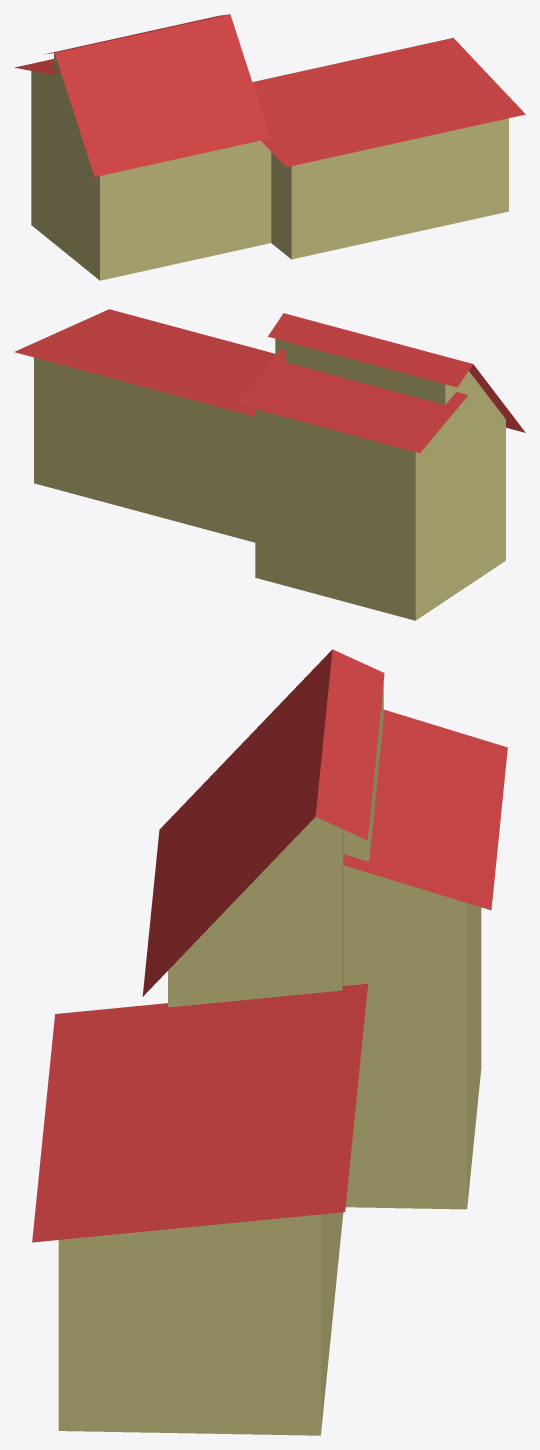
3 views of the same model, one above another, from view 1: azimuth 30°, elevation 25°; view 2: azimuth 150°, elevation 25°; view 3: azimuth 270°, elevation 25° (orthographic). The views are drawn at different scales.
Size of the model in its own units: 27.58 by 14.02 by 13.18.
